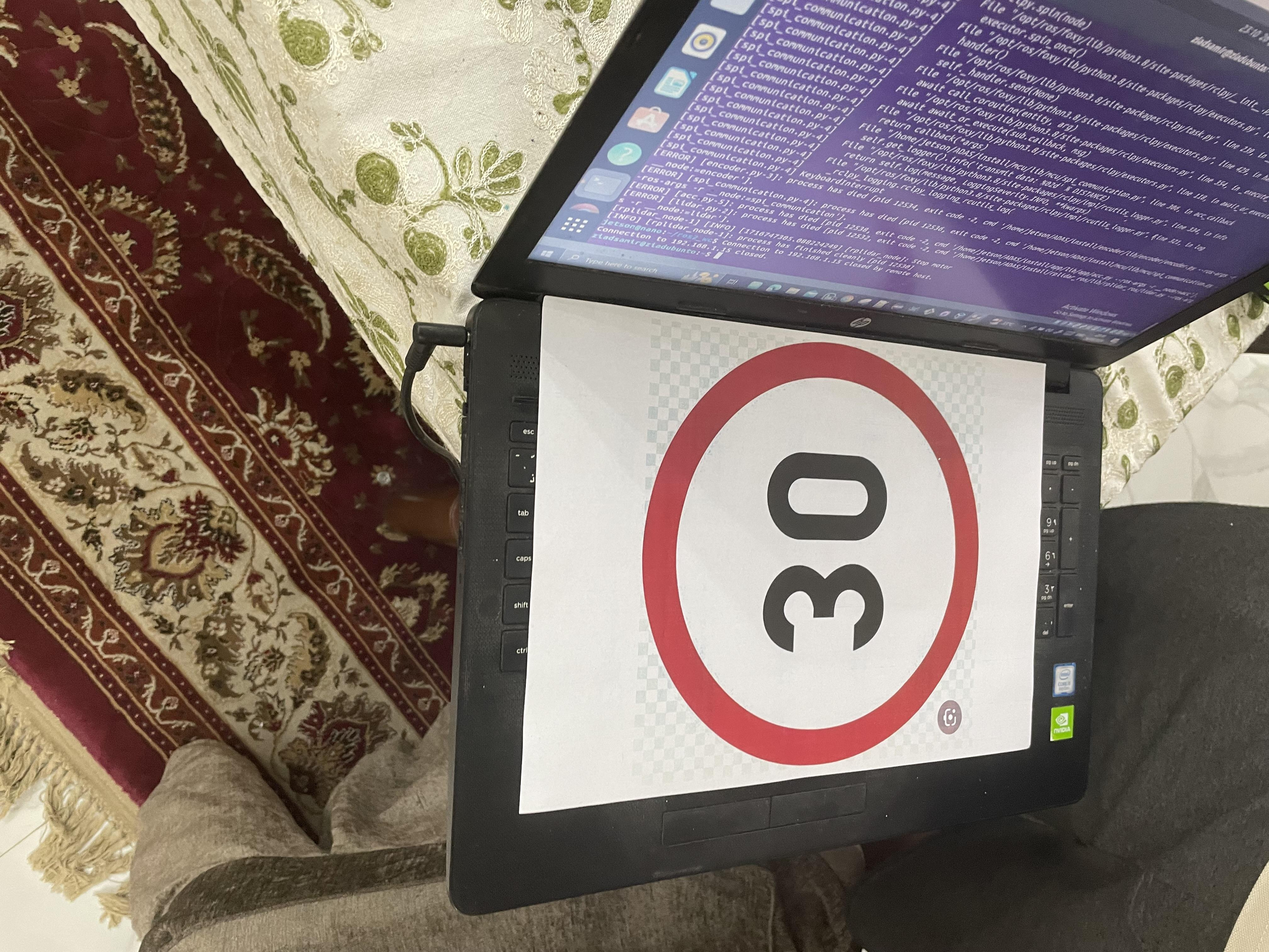30-speed: (449, 213, 1033, 472)
